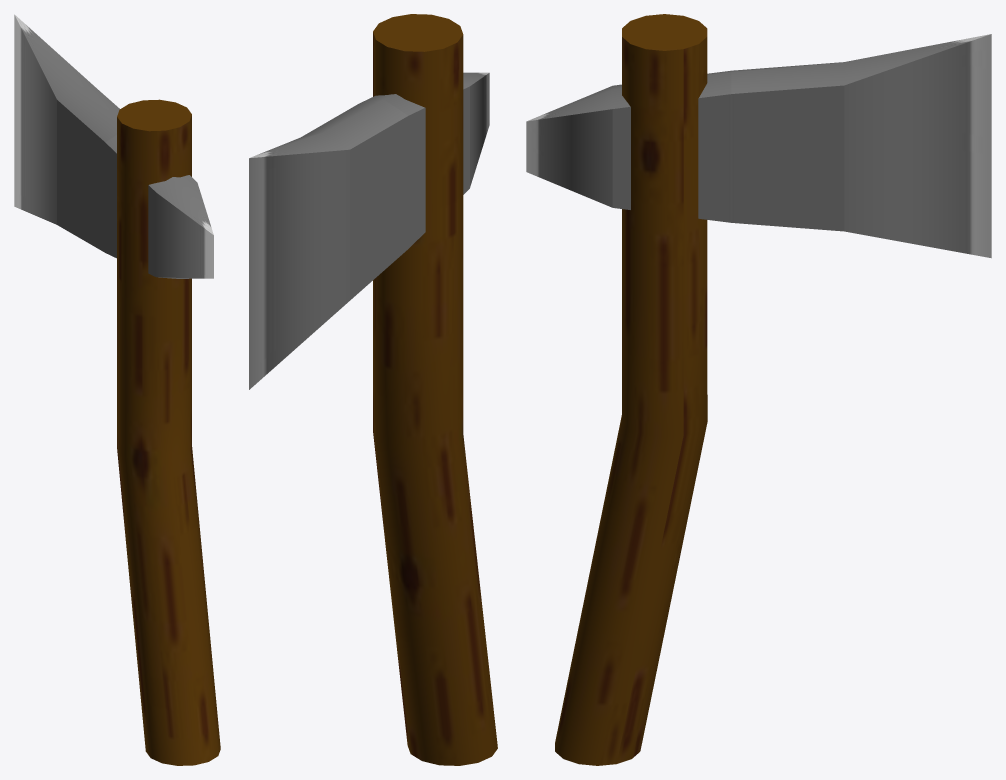
The model's file is axe.obj.
3 renders of one model, left to right at view 1: azimuth 30°, elevation 25°; view 2: azimuth 150°, elevation 25°; view 3: azimuth 270°, elevation 25°, orthographic. The views are drawn at different scales.
Parts seen in each view (by area): view 1: pCylinder1, pCube1; view 2: pCylinder1, pCube1; view 3: pCylinder1, pCube1.
Part boxes in pixels (x1=…): pCylinder1: x1=117, y1=99, x2=220, y2=765; pCube1: x1=14, y1=14, x2=213, y2=278; pCylinder1: x1=373, y1=14, x2=497, y2=765; pCube1: x1=249, y1=72, x2=489, y2=389; pCylinder1: x1=555, y1=14, x2=707, y2=765; pCube1: x1=526, y1=34, x2=991, y2=258.
Bounding box in the file's own units: 0.8158 × 7.34 × 4.33.
Materials: 1 (1 with a texture image).
